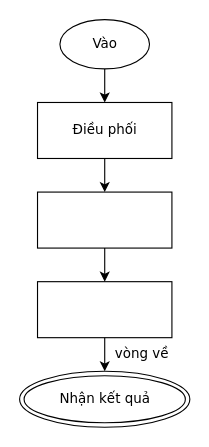
Image size: 209x447. Some labels were removed from this diagram. The shapes that lost their labels are listed below. From the top down, each one's centre as x and y in pixels, then its label:
pixel 104 219: Xử lý sâu
pixel 104 309: Ghi kết quả
